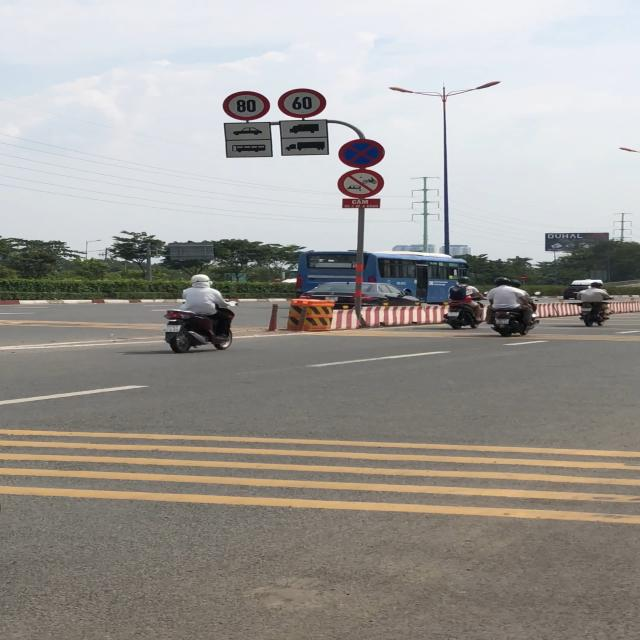Bien bao cam dung xe va do xe: (336, 136, 388, 170)
Bien bao toc do toi da cho phep: (221, 90, 274, 121), (276, 88, 328, 118)
